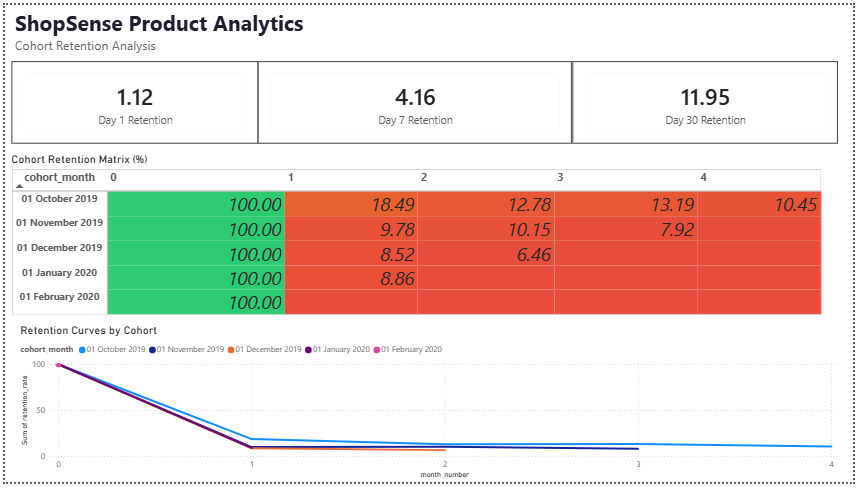

The dashboard page shown, as its layout file describes it:
{"tool":"powerbi","page":{"name":"Cohort Retention","canvas":[1280,720],"ordinal":2},"visuals":[{"type":"textbox","box":[10,0,280,280],"z":0},{"type":"textbox","box":[9.6,0,1270.4,97.2],"z":1000},{"type":"cardVisual","fields":{"Data":["cohort_retention.Day 1 Retention"]},"box":[10,85.3,372,124],"z":2000},{"type":"cardVisual","fields":{"Data":["cohort_retention.Day 30 Retention"]},"box":[856,85.3,400,124],"z":3000},{"type":"cardVisual","fields":{"Data":["cohort_retention.Day 7 Retention"]},"box":[382,85.3,474,124],"z":4000},{"type":"pivotTable","title":"Cohort Retention Matrix (%)","fields":{"Columns":["cohort_retention.month_number"],"Values":["Sum(cohort_retention.retention_rate)"],"Rows":["cohort_retention.cohort_month"]},"box":[5,223.3,1251.7,271.7],"z":5000},{"type":"lineChart","title":"Retention Curves by Cohort","fields":{"Category":["cohort_retention.month_number"],"Y":["Sum(cohort_retention.retention_rate)"],"Series":["cohort_retention.cohort_month"]},"box":[0,468.3,1243.3,238.3],"z":6000}]}

Visuals, with their boxes in screenshot pixels (x1, y1, x2, y2), scaled from the page's 1280x720 canvas onto the 859x488 screenshot:
textbox: bbox=[7, 0, 195, 190]
textbox: bbox=[6, 0, 858, 66]
cardVisual - cohort_retention.Day 1 Retention: bbox=[7, 58, 256, 142]
cardVisual - cohort_retention.Day 30 Retention: bbox=[574, 58, 843, 142]
cardVisual - cohort_retention.Day 7 Retention: bbox=[256, 58, 574, 142]
"Cohort Retention Matrix (%)" pivotTable: bbox=[3, 151, 843, 336]
"Retention Curves by Cohort" lineChart: bbox=[0, 317, 834, 479]
